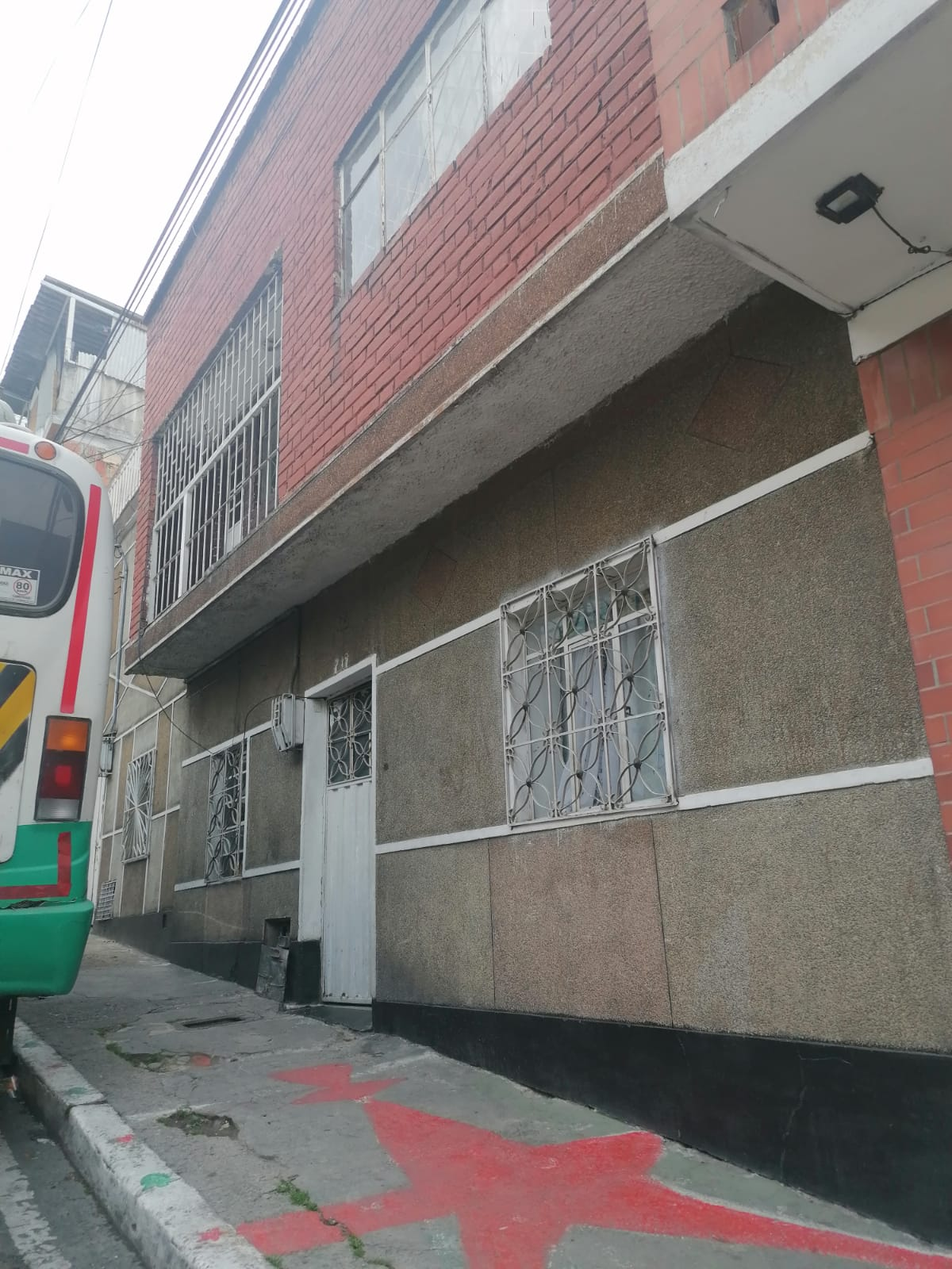House: (112, 8, 936, 1217)
